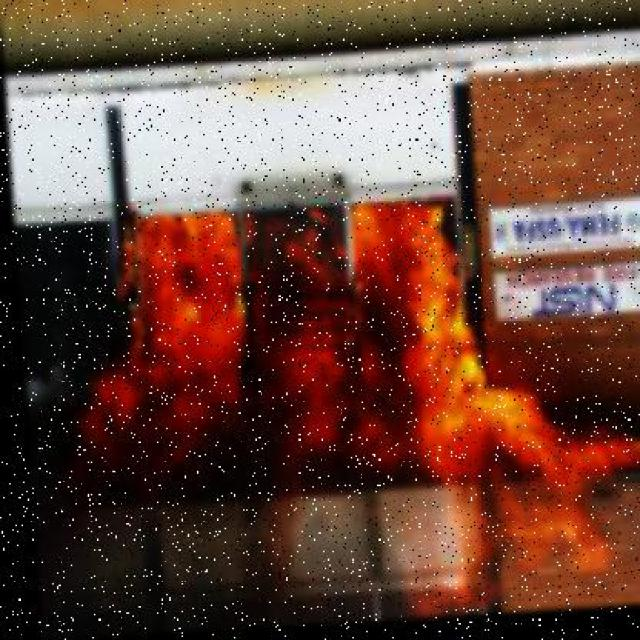fire: (123, 202, 617, 600)
